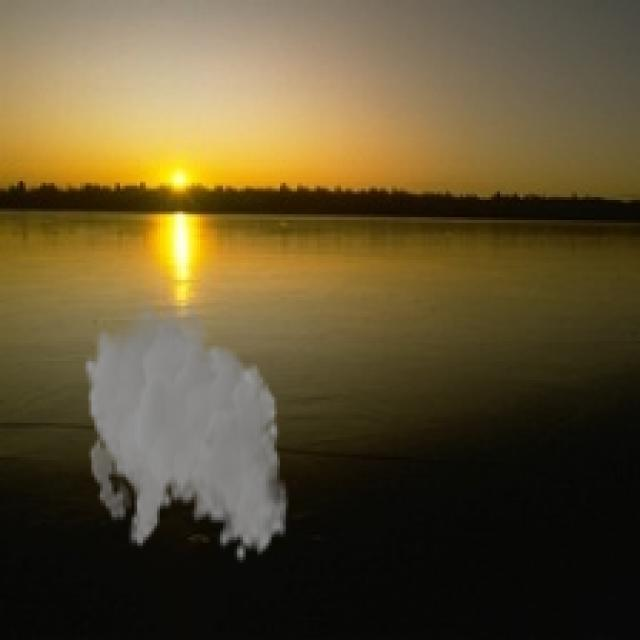Smoke: (82, 292, 288, 562)
